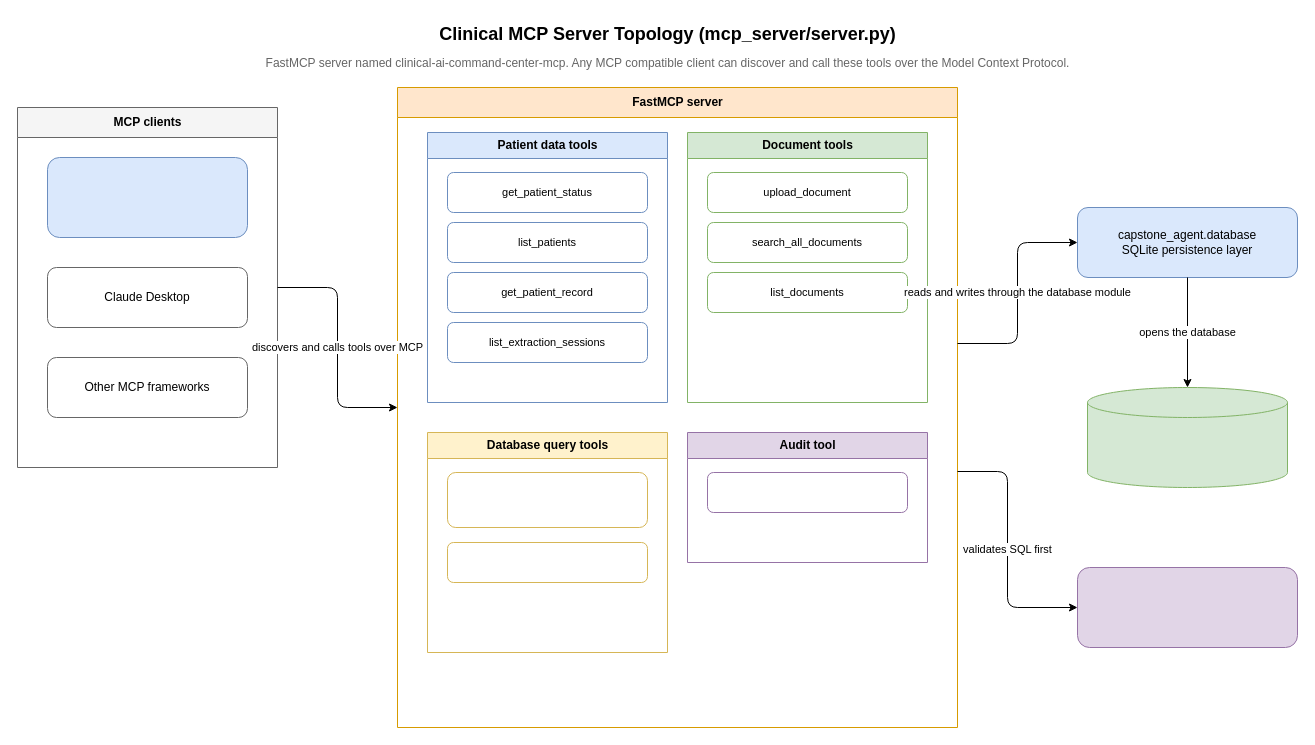
Some shapes in this 1315 by 745 pixel diagram are drawn without their labels. The centre of each missing label's shape, as x and y in pixels:
ADK agent connects through StdioConnectionParams in agent.py: the point at 147,197
clinical_schemas.validate_sql blocks unsafe SQL before execution: the point at 1187,607
log_clinical_audit: the point at 807,492
query_clinical_database validated by validate_sql: the point at 547,500
SQLite clinical database and audit_log: the point at 1187,437
store_extraction_result: the point at 547,562
